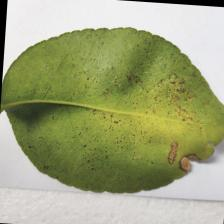canker: (113, 43, 214, 181)
